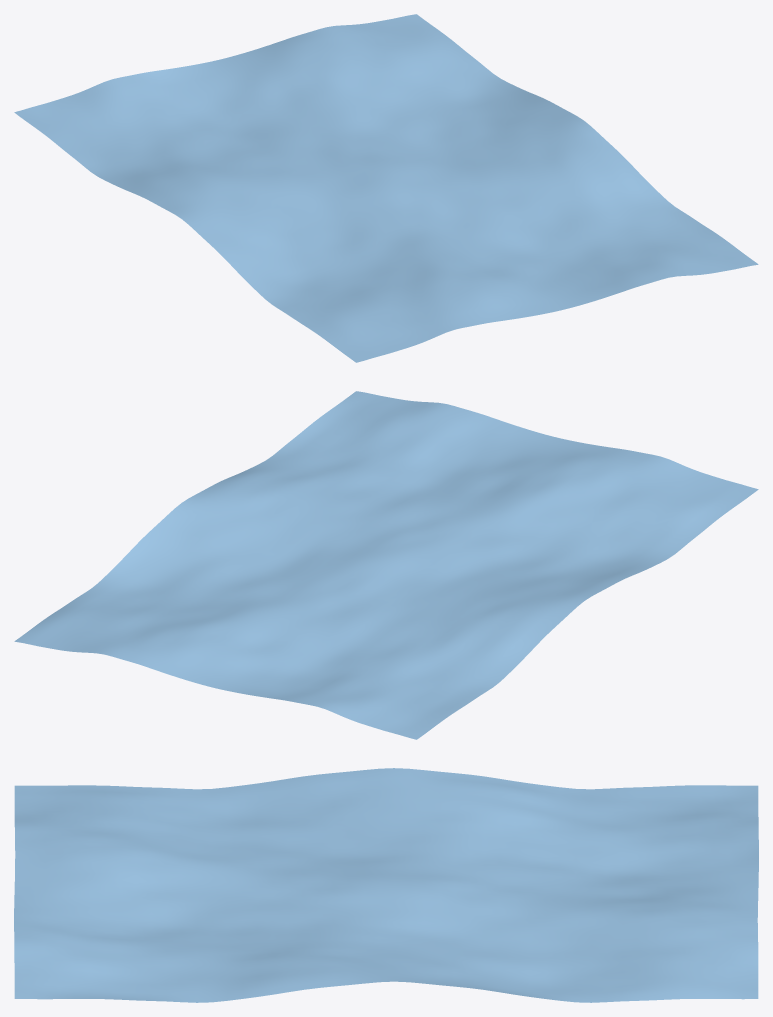
Rendered from waves.fbx.
3 views of the same model, one above another, from view 1: azimuth 30°, elevation 25°; view 2: azimuth 150°, elevation 25°; view 3: azimuth 270°, elevation 25° (orthographic). The views are drawn at different scales.
Visible parts, largest first — view 1: Cube.001; view 2: Cube.001; view 3: Cube.001.
Boxes of the visible parts, x1,y1,x2,y2 form: Cube.001: (14, 14, 758, 362); Cube.001: (14, 391, 758, 739); Cube.001: (14, 768, 758, 1002).
Bounding box in the file's own units: 1315 × 66.38 × 1938.
